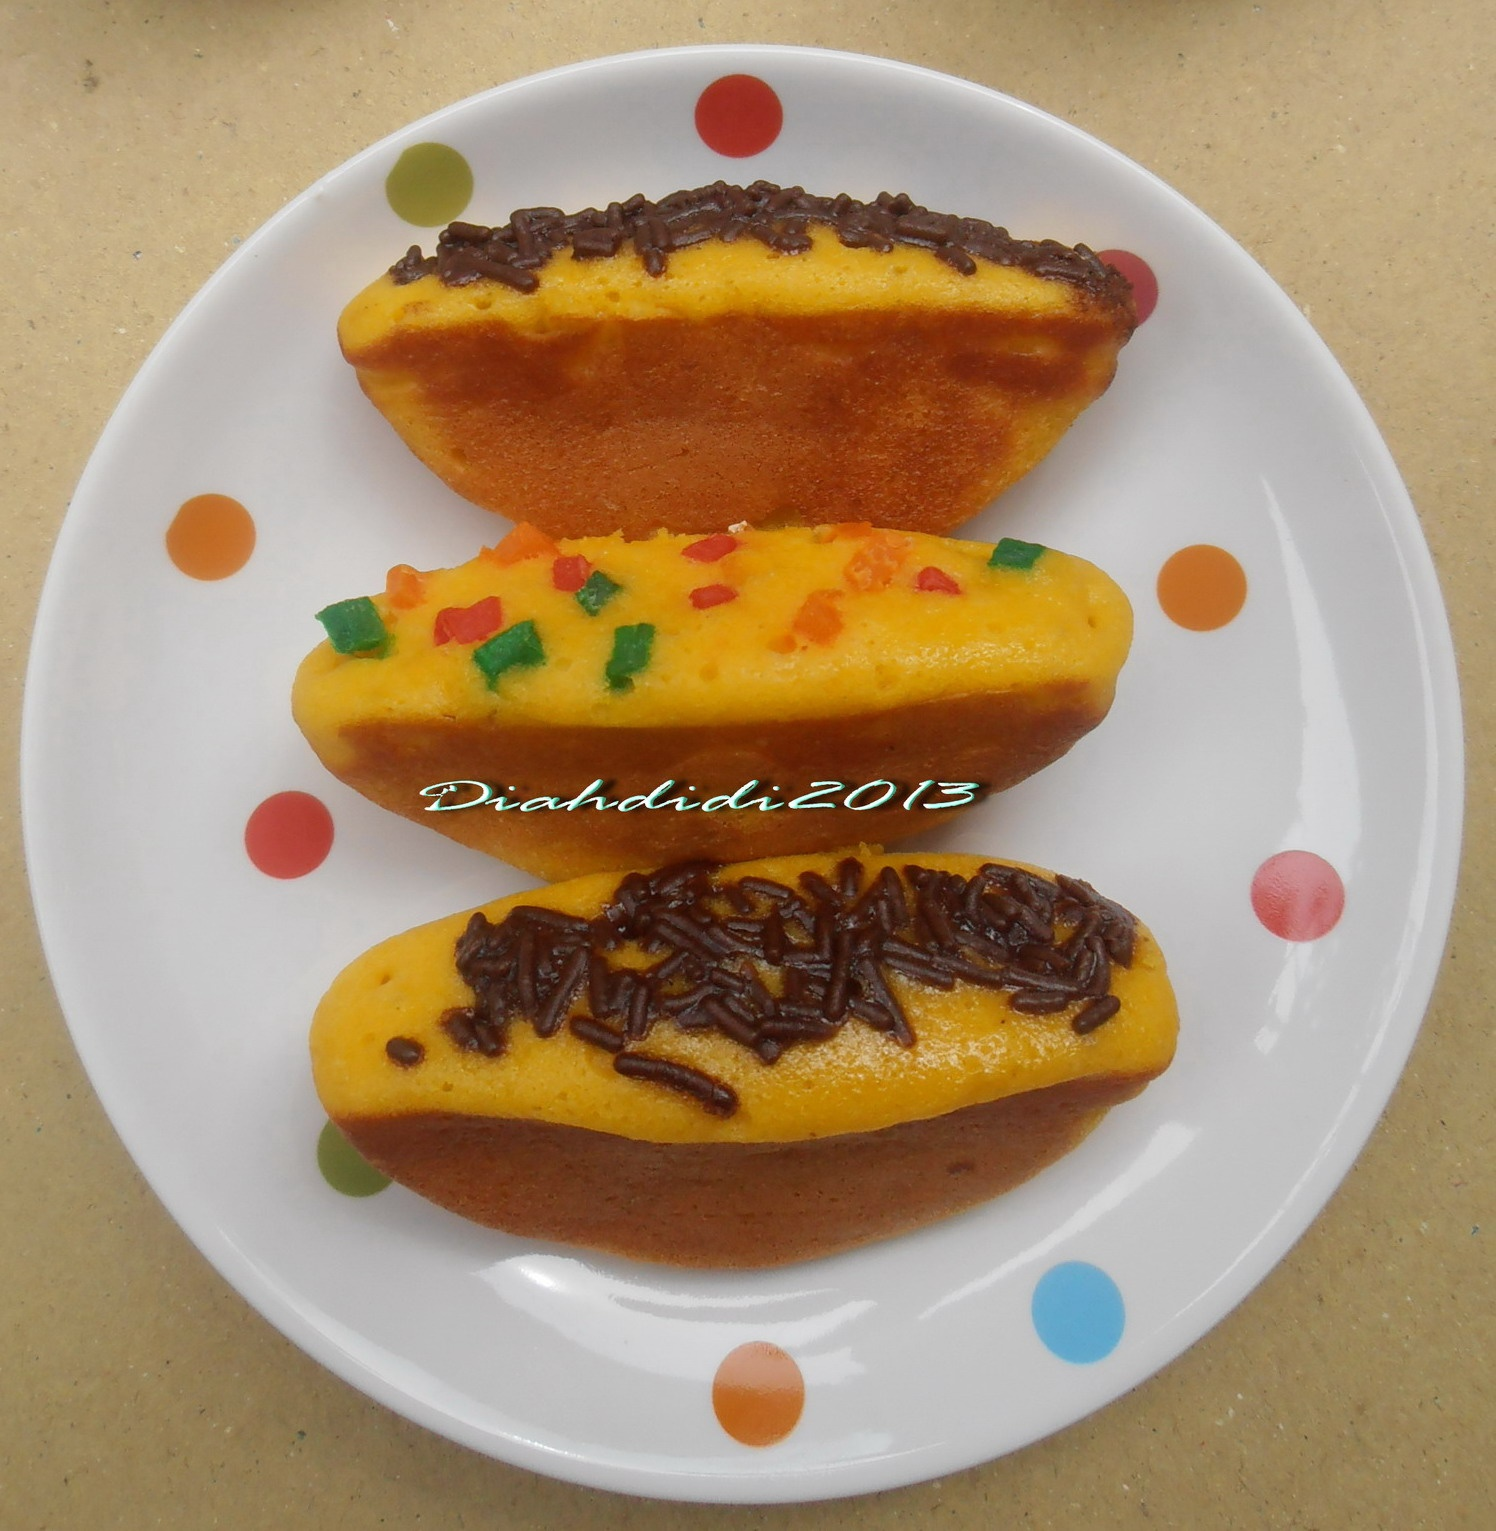pukis: (196, 822, 1288, 1324), (310, 175, 1180, 546)
